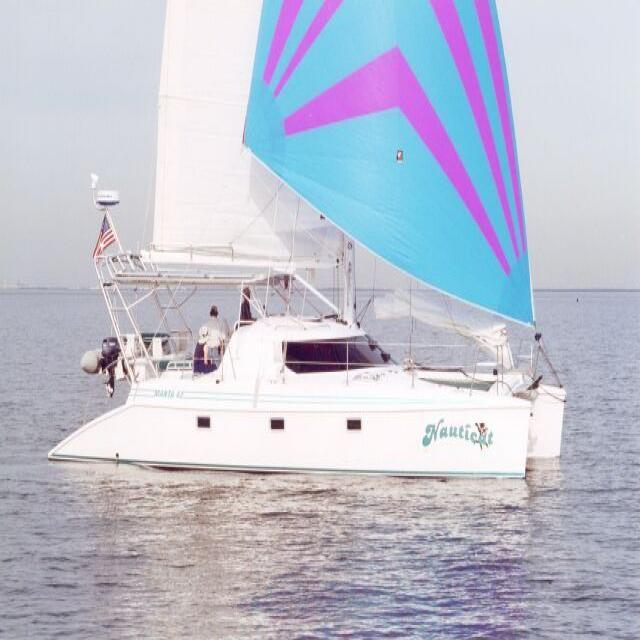Ship: (48, 1, 562, 483)
